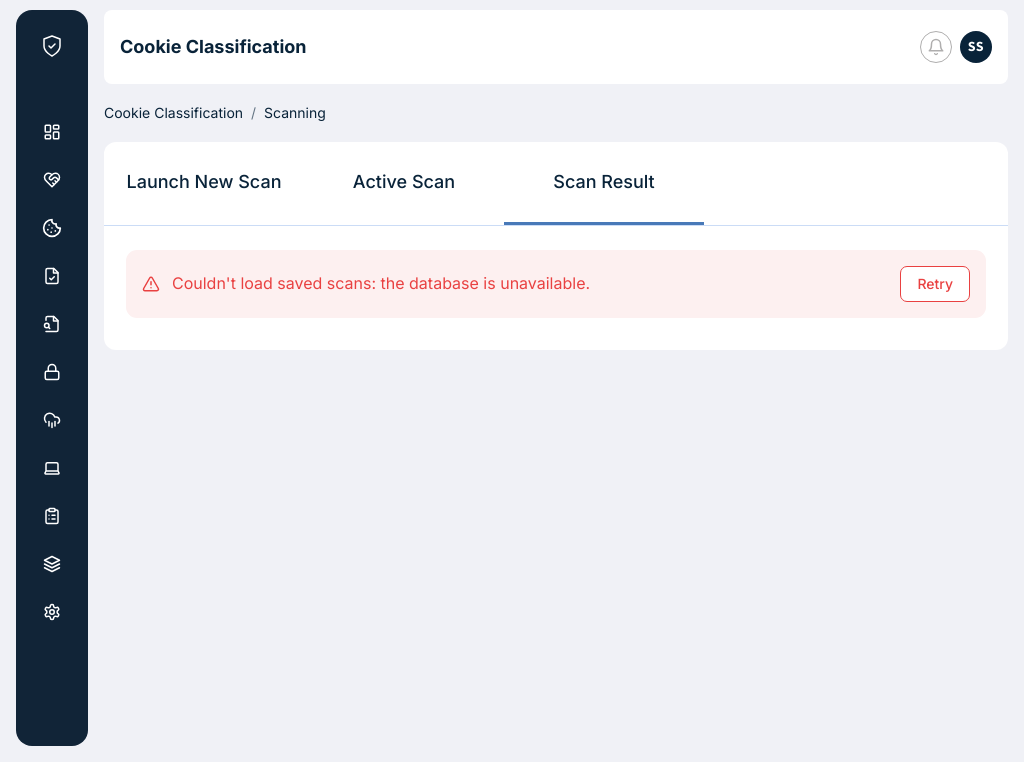
Saved scans load from the scan store › says it could not load, with Retry, when the database is unavailable
Check: the text "Couldn't load saved scans: the database is unavailable." is shown, box [172,273,590,293]
Click the button "Retry". click: (935, 284)
box: [900,266,970,302]
(page scrolled)
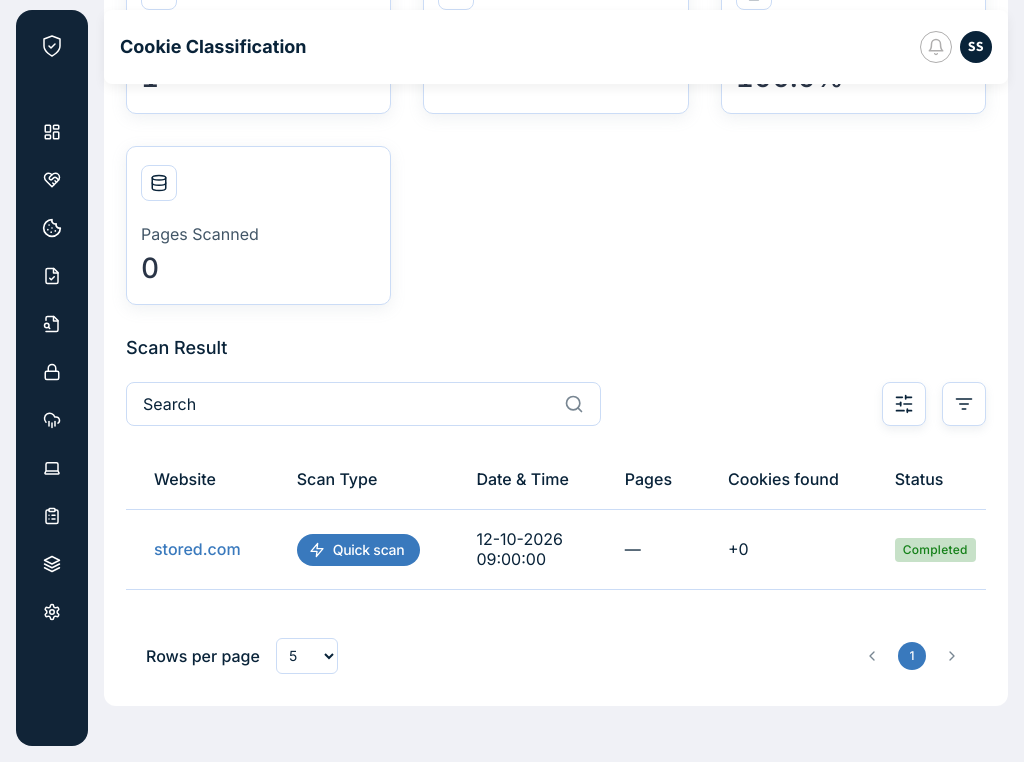
Check: the button "stored.com" is shown, box [154,540,241,559]
